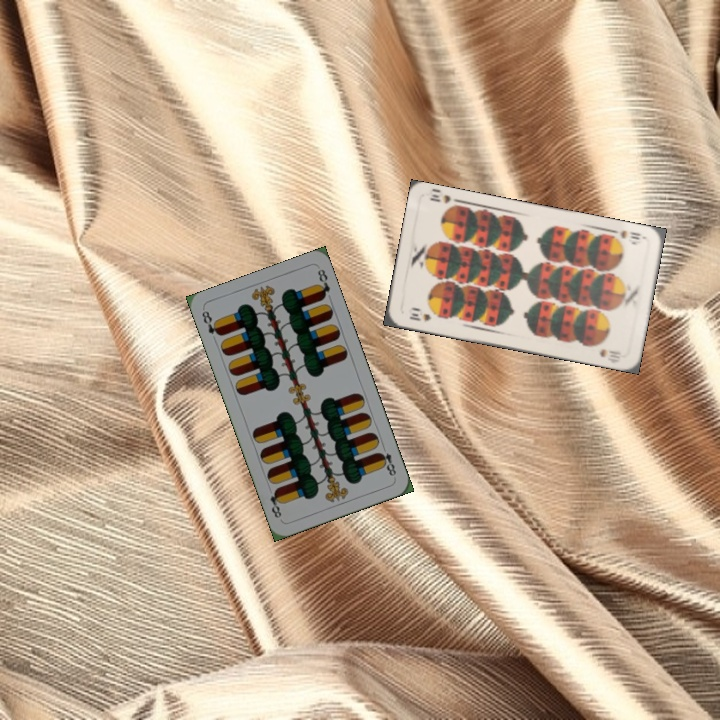E8: (375, 441, 399, 479), (198, 306, 224, 338)
S10: (608, 225, 643, 242), (405, 306, 434, 324)
